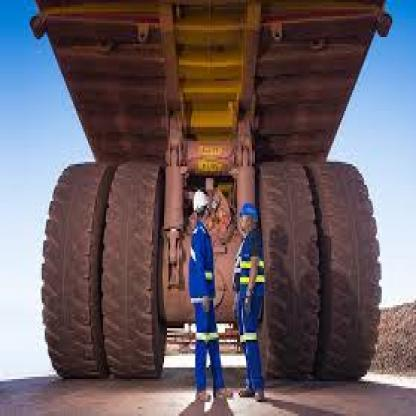dump_truck: (20, 0, 395, 407)
person: (182, 164, 230, 407), (225, 192, 277, 407)
